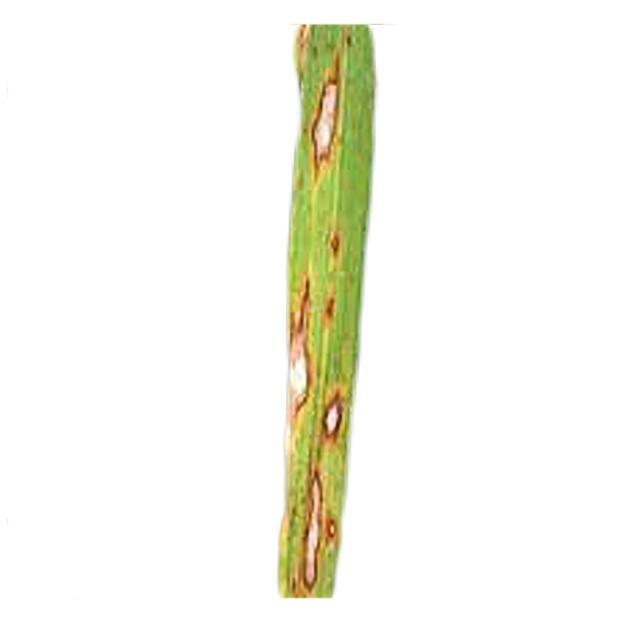Leaf blast: (273, 6, 410, 610)
